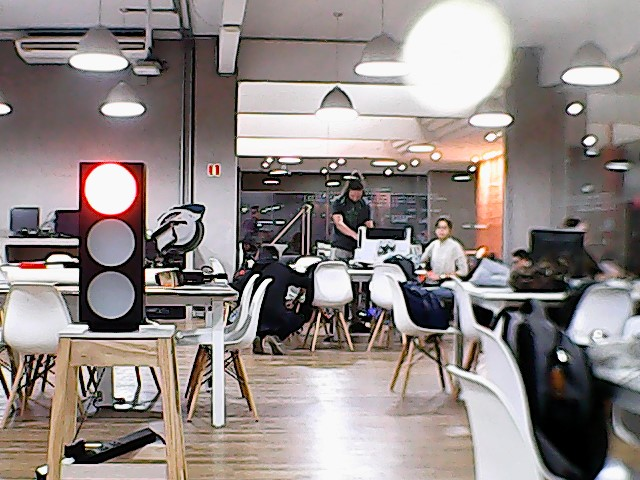vermelho: (73, 158, 150, 329)
